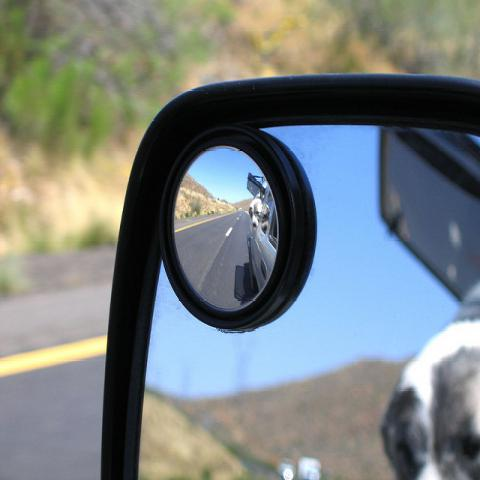car: (100, 74, 479, 474), (248, 179, 277, 295)
